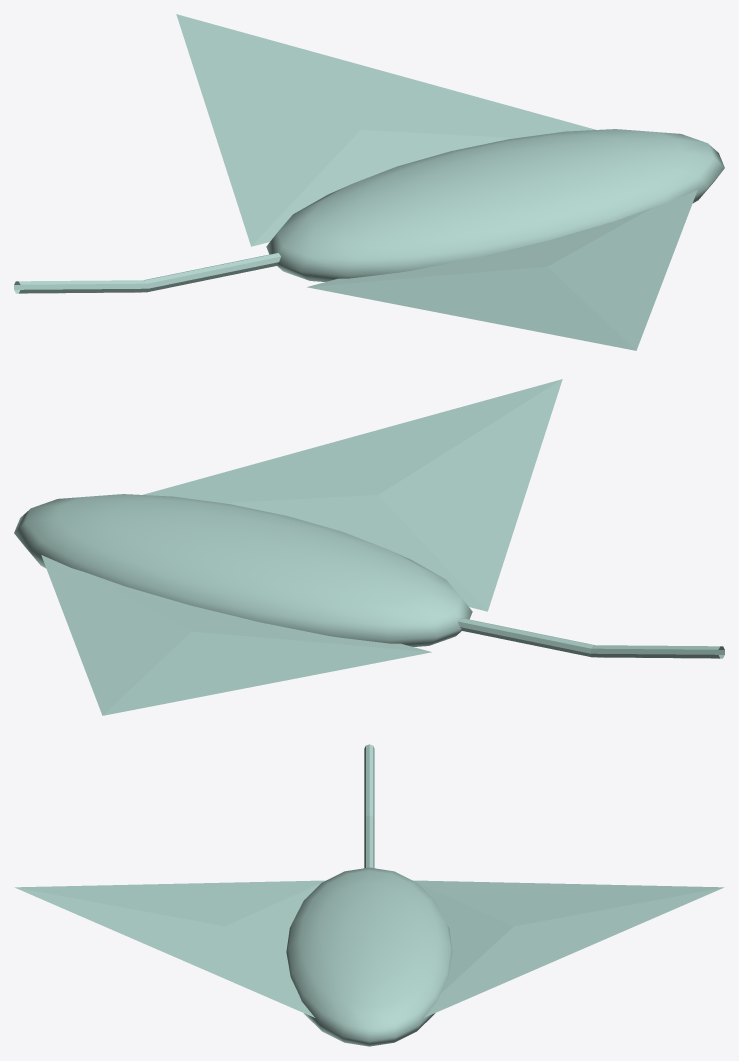
3 renders of one model, top to bottom at view 1: azimuth 30°, elevation 25°; view 2: azimuth 150°, elevation 25°; view 3: azimuth 270°, elevation 25°, orthographic. The views are drawn at different scales.
Parts seen in each view (by area): view 1: Body, Wing.001, Wing, Tail; view 2: Body, Wing, Wing.001, Tail; view 3: Body, Wing, Wing.001, Tail.
Boxes of the visible parts, <box> form: Body: <box>266,129,724,281</box>; Wing.001: <box>176,14,595,246</box>; Wing: <box>307,190,697,350</box>; Tail: <box>14,253,280,293</box>; Body: <box>14,494,472,646</box>; Wing: <box>143,379,562,611</box>; Wing.001: <box>41,555,431,715</box>; Tail: <box>458,618,724,658</box>; Body: <box>286,867,452,1046</box>; Wing: <box>14,880,325,1017</box>; Wing.001: <box>413,880,724,1017</box>; Tail: <box>364,744,374,868</box>.
Size of the model in its own units: 220 by 26 by 250.
